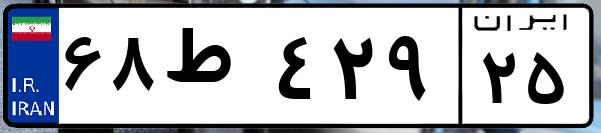2: (330, 28, 385, 110), (475, 38, 525, 113)
4: (270, 28, 330, 110)
5: (525, 38, 570, 115)
6: (57, 26, 110, 100)
8: (110, 28, 158, 98)
9: (385, 28, 445, 110)
ط: (158, 20, 270, 120)
